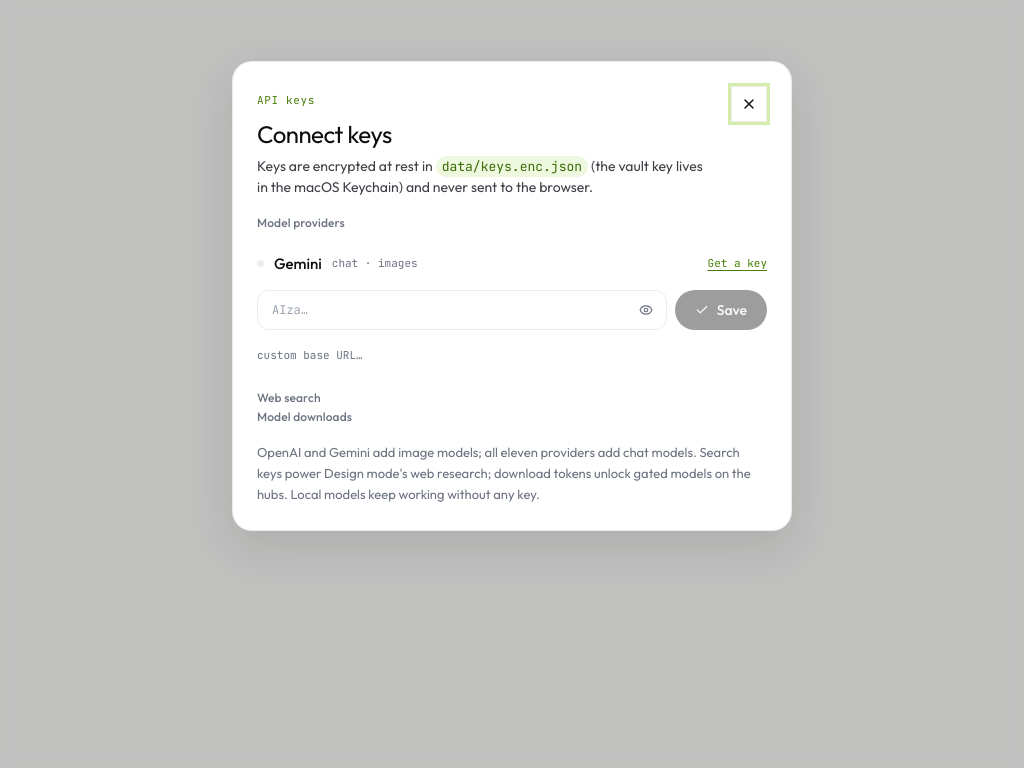
Test: KeysDialog › saving posts the key and shows the validation verdict
The width and height of the screenshot is (1024, 768).
Type "AIza-new-key" into the password field with placeholder "AIza…".
click(449, 310); type("AIza-new-key")  # box [272,294,626,326]
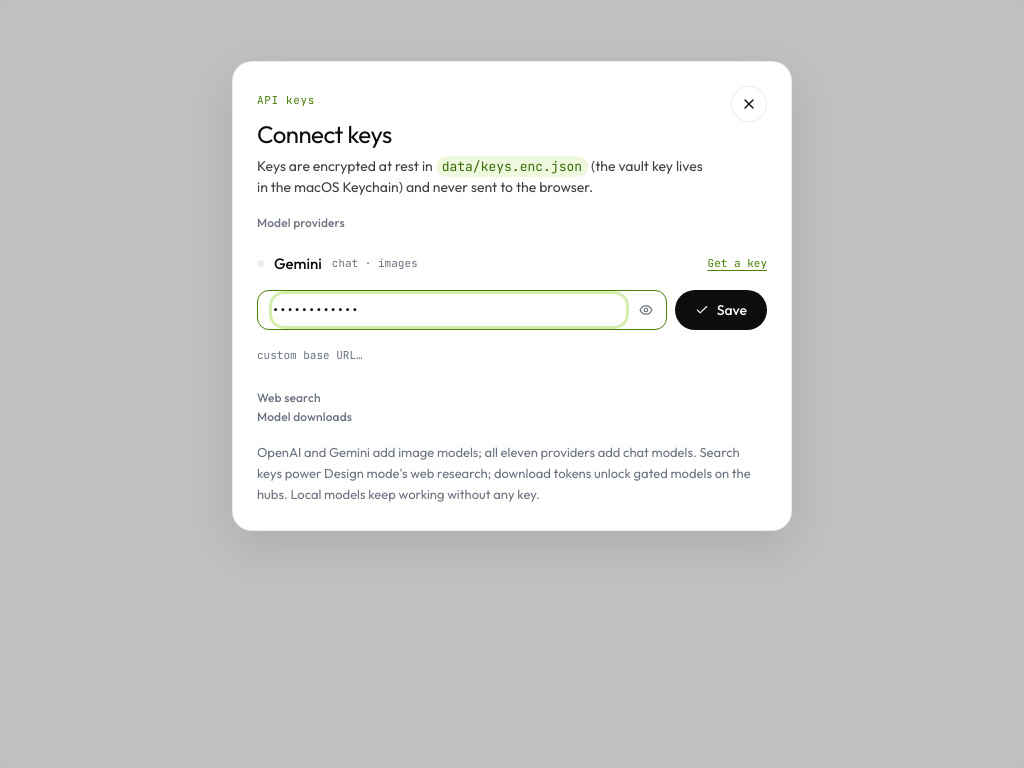
Click the button "Save".
click(721, 310)  # box [675,290,767,330]
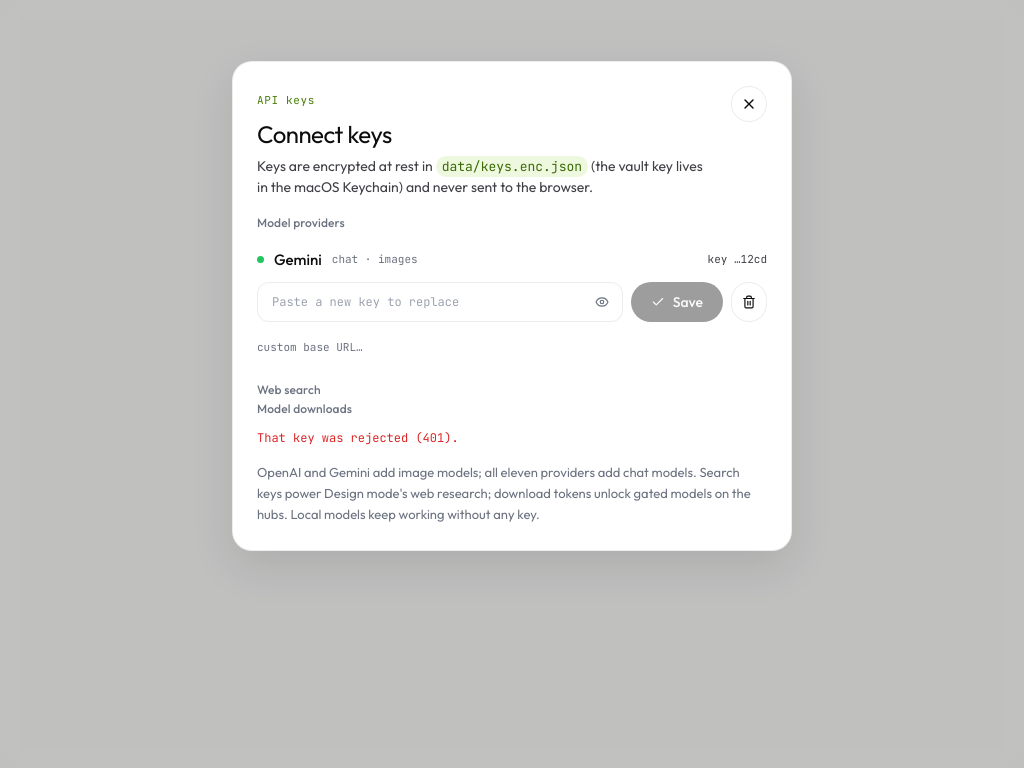
Now the text "That key was rejected (401)." is shown, box [257,430,459,446]
Now the text "key …12cd" is shown, box [708,251,767,269]
